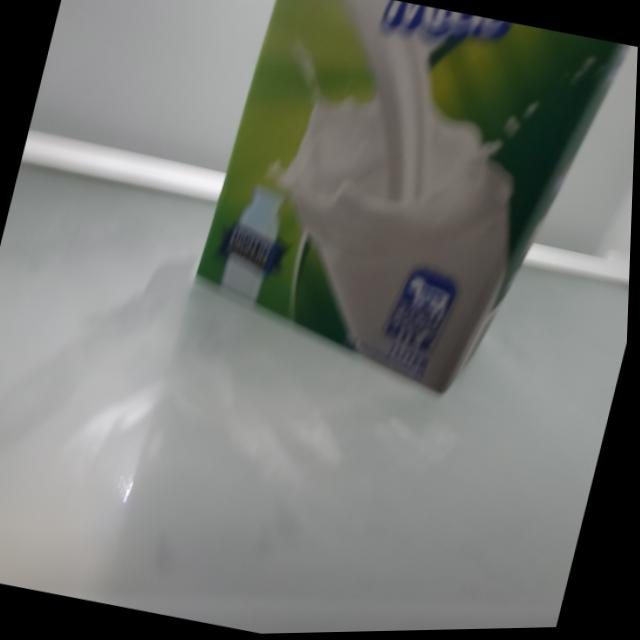milk: (180, 0, 635, 421)
